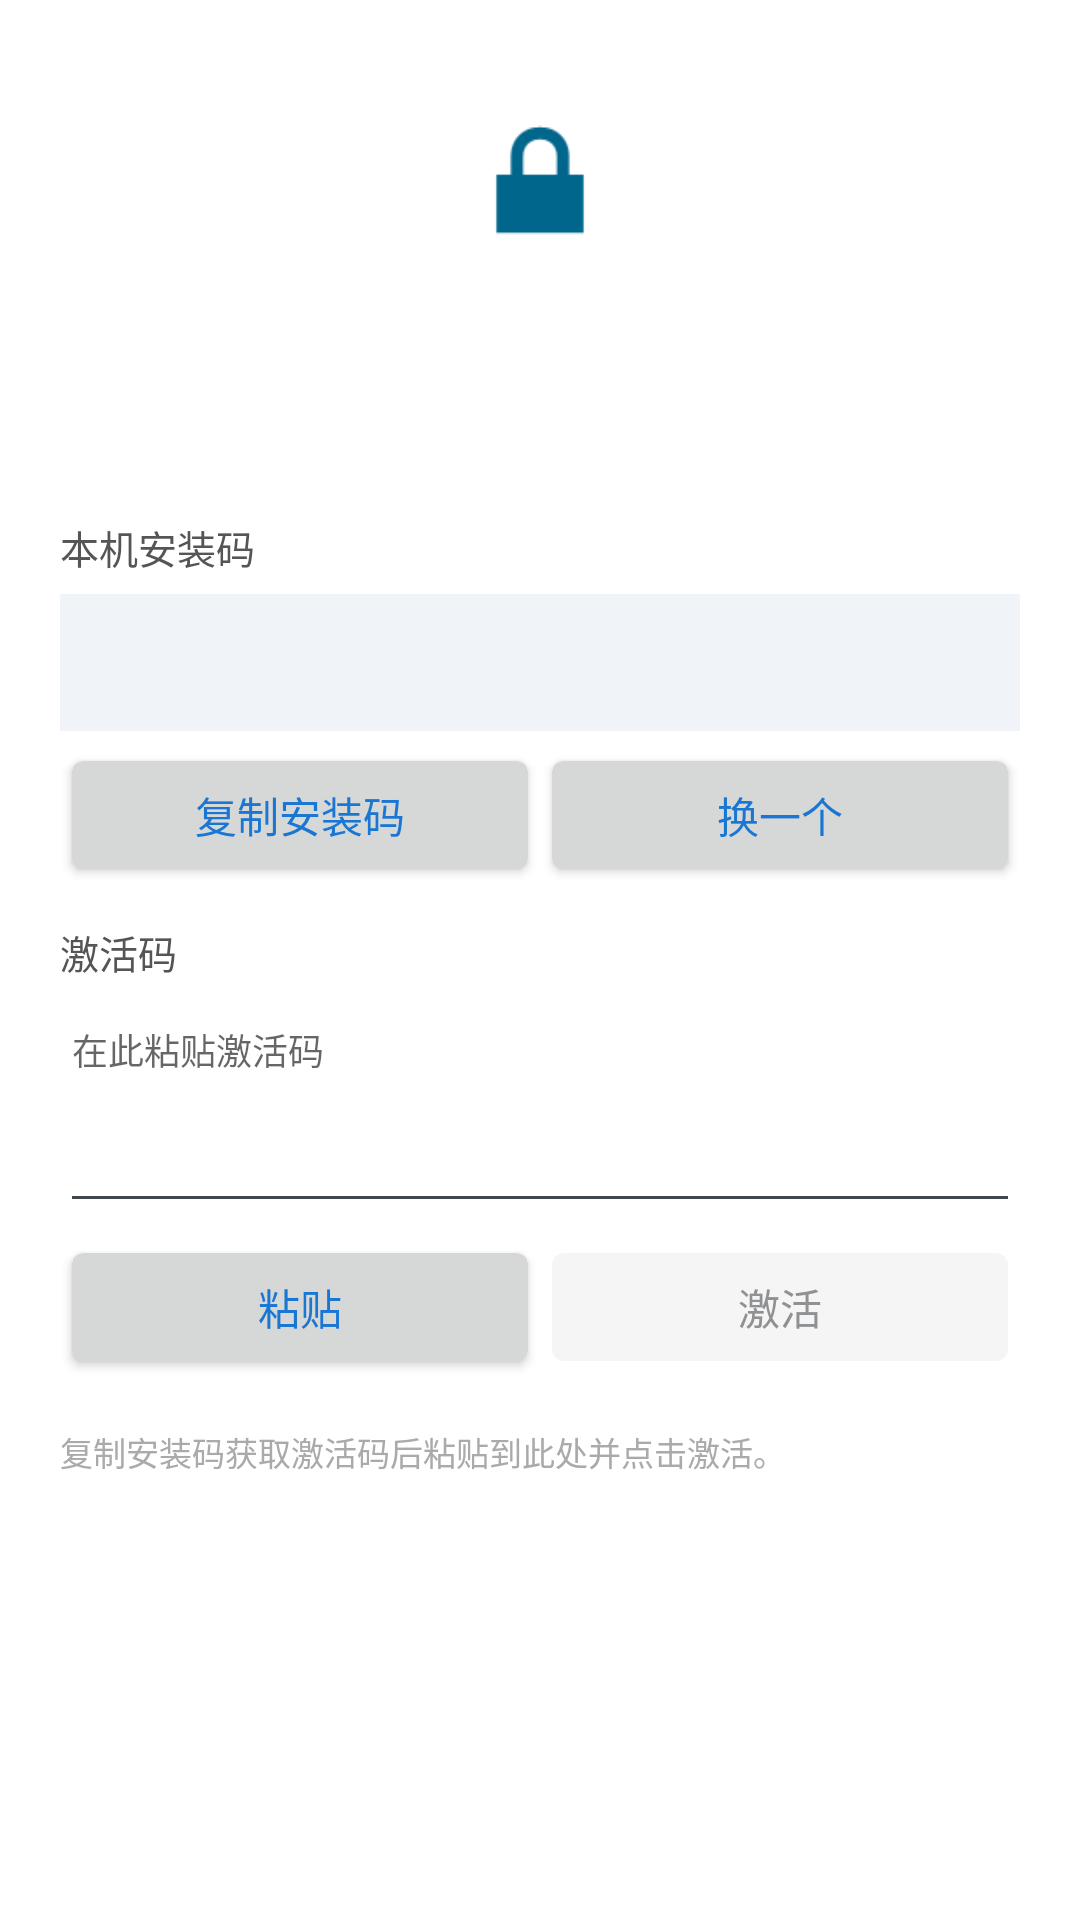

Icon click points for this 1080 × 1920 phone screenshot, format (x,y):
lock: (540,180)
